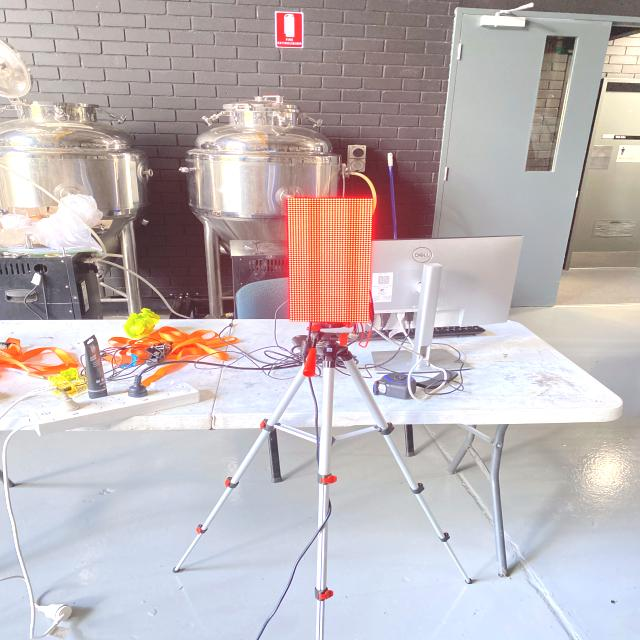matrix: (275, 191, 381, 332)
